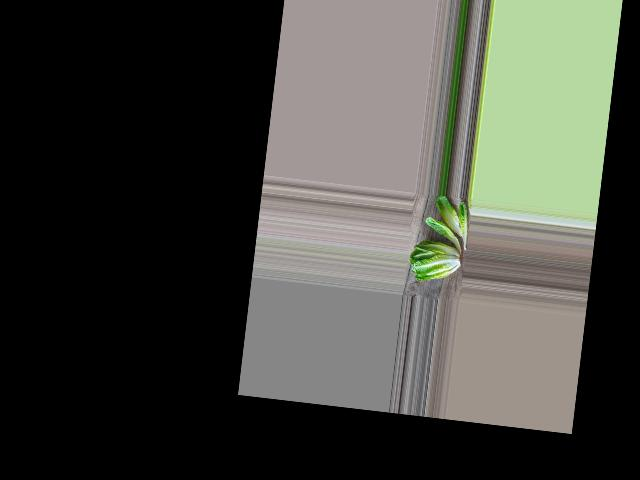lettuce: (408, 236, 462, 286)
